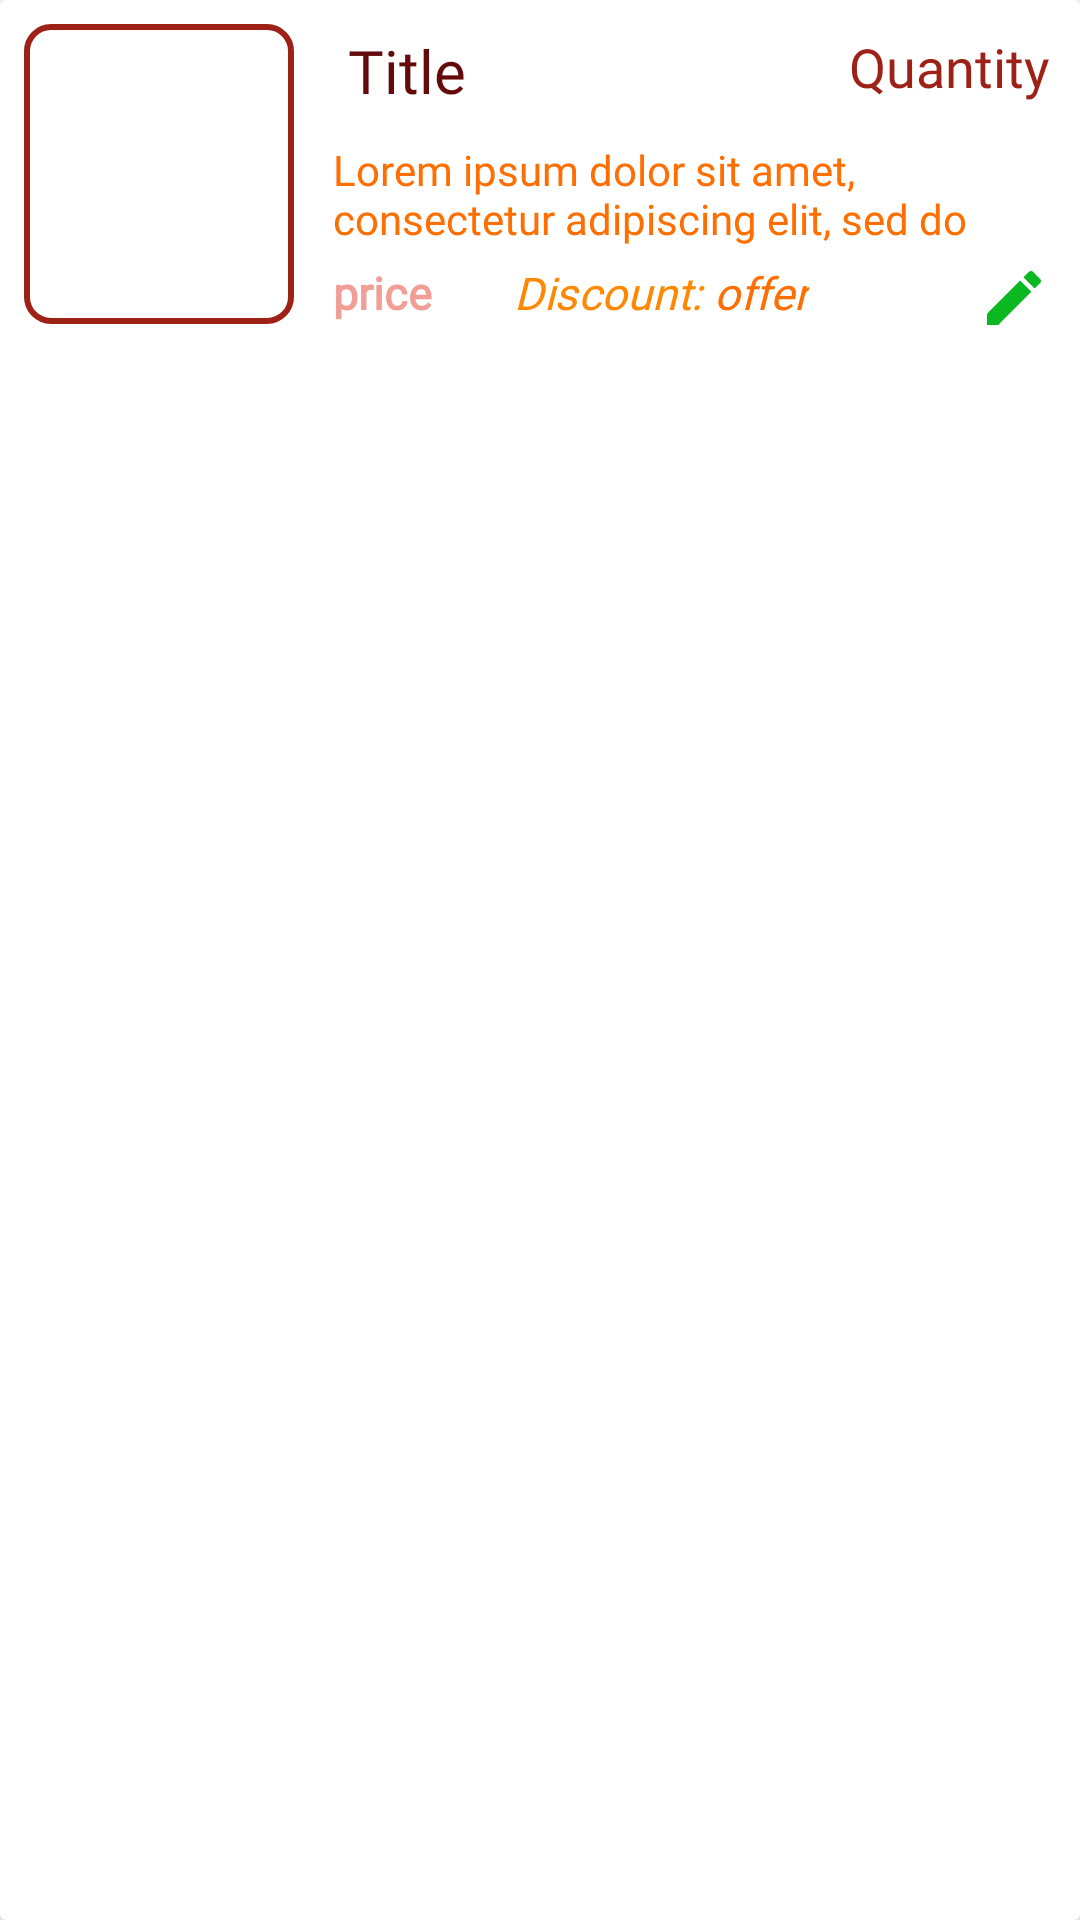

Point at icon controls on the screen. Image size 1080w x 1920h, points as [x,y].
edit: [1014,298]
